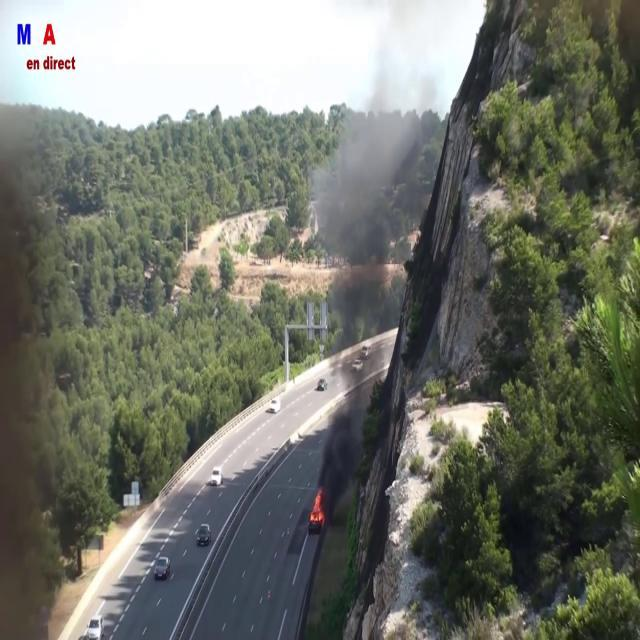Fire: (309, 484, 325, 530)
Smoke: (310, 62, 414, 506), (0, 70, 70, 628)
